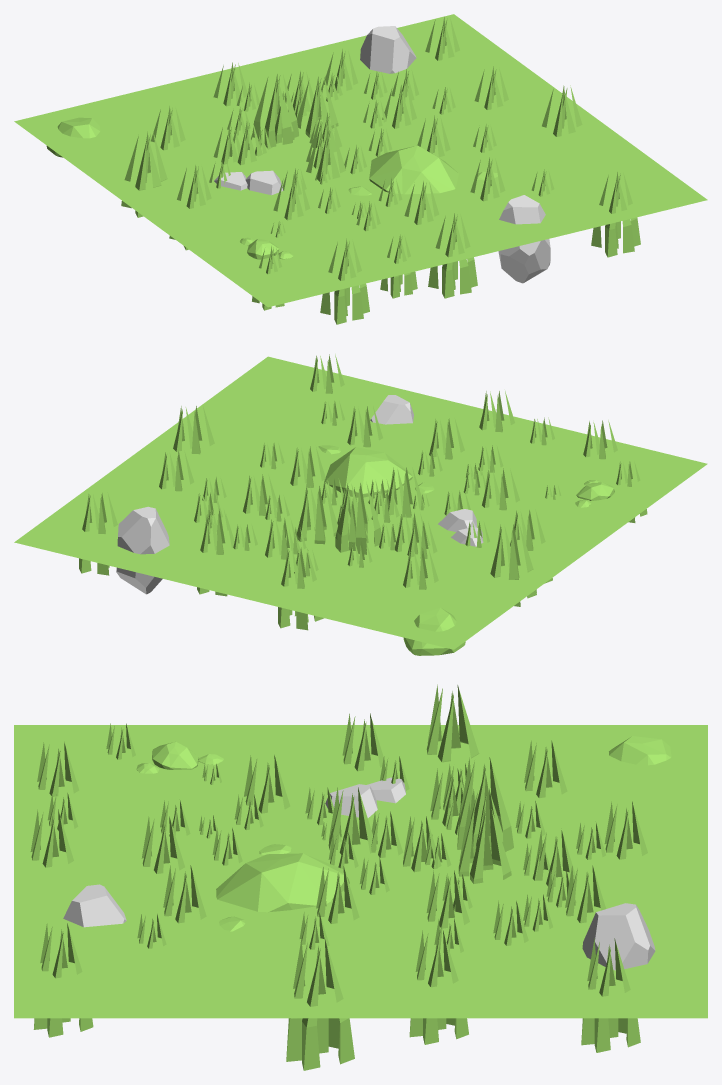
Rendered from grass-composition4.fbx.
The picture shows the model from 3 angles, top to bottom: view 1: azimuth 30°, elevation 25°; view 2: azimuth 150°, elevation 25°; view 3: azimuth 270°, elevation 25°; orthographic projection. The views are drawn at different scales.
Visible parts, largest first — view 1: Plane, Bush1.2, Stone1.002, Stone1.003, Grass.013, Grass.002, Grass.001, Grass.023, Grass.024, Grass, Grass.018, Grass.003 (+17 smaller); view 2: Plane, Bush1.2, Stone1.003, Grass.023, Bush1.1, Grass, Grass.024, Grass.010, Grass.005, Stone1.002, Grass.022, Grass.003 (+17 smaller); view 3: Plane, Bush1.2, Grass.022, Stone1.003, Grass.005, Grass, Grass.004, Grass.023, Grass.024, Stone1.002, Grass.001, Grass.003 (+21 smaller).
Part boxes in pixels (x1=…): Plane: x1=14, y1=14, x2=707, y2=307; Bush1.2: x1=348, y1=145, x2=497, y2=195; Stone1.002: x1=498, y1=195, x2=550, y2=283; Stone1.003: x1=360, y1=26, x2=416, y2=73; Grass.013: x1=428, y1=213, x2=477, y2=298; Grass.002: x1=320, y1=238, x2=369, y2=324; Grass.001: x1=591, y1=172, x2=640, y2=257; Grass.023: x1=252, y1=74, x2=298, y2=148; Grass.024: x1=121, y1=131, x2=167, y2=217; Grass: x1=297, y1=76, x2=338, y2=137; Grass.018: x1=380, y1=234, x2=417, y2=298; Grass.003: x1=306, y1=128, x2=345, y2=181; Plane: x1=14, y1=356, x2=707, y2=649; Bush1.2: x1=318, y1=445, x2=434, y2=497; Stone1.003: x1=116, y1=506, x2=169, y2=594; Grass.023: x1=337, y1=482, x2=381, y2=554; Bush1.1: x1=403, y1=607, x2=465, y2=655; Grass: x1=297, y1=485, x2=337, y2=544; Grass.024: x1=490, y1=524, x2=536, y2=606; Grass.010: x1=278, y1=547, x2=323, y2=630; Grass.005: x1=79, y1=492, x2=117, y2=575; Stone1.002: x1=370, y1=395, x2=413, y2=424; Grass.022: x1=173, y1=406, x2=214, y2=454; Grass.003: x1=388, y1=467, x2=424, y2=517; Plane: x1=14, y1=725, x2=707, y2=1018; Bush1.2: x1=216, y1=844, x2=349, y2=931; Grass.022: x1=286, y1=938, x2=354, y2=1070; Stone1.003: x1=582, y1=903, x2=655, y2=970; Grass.005: x1=581, y1=938, x2=640, y2=1052; Grass: x1=458, y1=802, x2=511, y2=883; Grass.004: x1=409, y1=930, x2=468, y2=1044; Grass.023: x1=457, y1=757, x2=513, y2=856; Grass.024: x1=426, y1=684, x2=479, y2=762; Stone1.002: x1=63, y1=884, x2=126, y2=927; Grass.001: x1=33, y1=923, x2=93, y2=1037; Grass.003: x1=328, y1=787, x2=377, y2=856.
Bounding box in the file's own units: 200 × 59.13 × 200.
